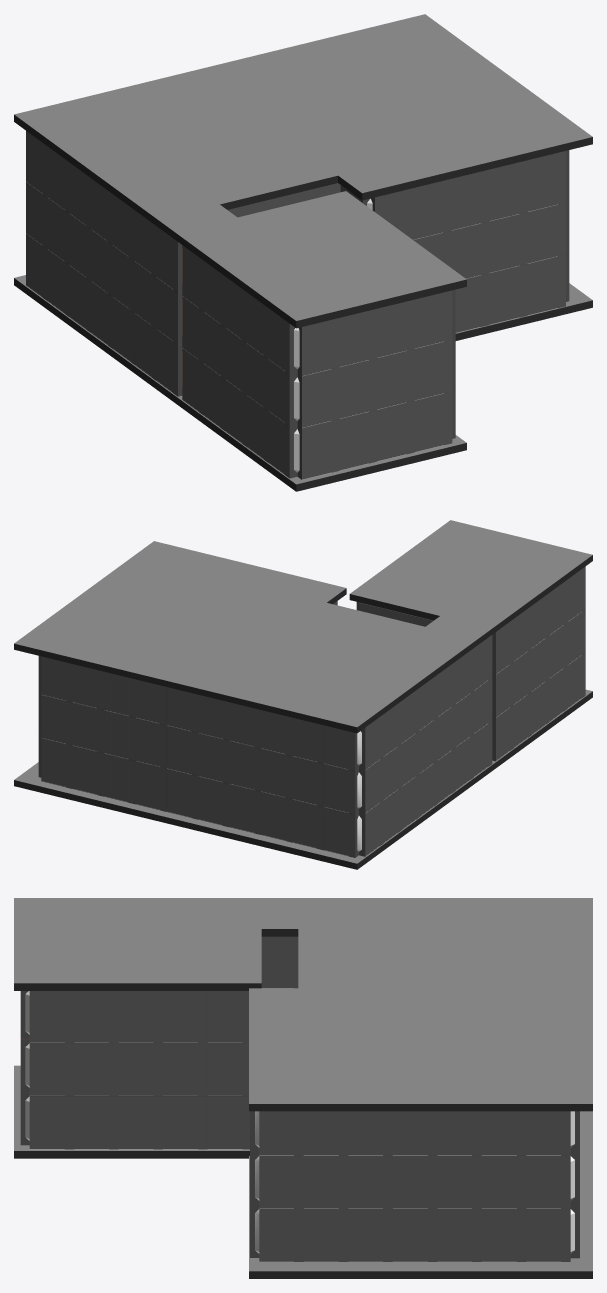
The model's file is teaching_level_4.fbx.
The picture shows the model from 3 angles, top to bottom: view 1: azimuth 30°, elevation 25°; view 2: azimuth 150°, elevation 25°; view 3: azimuth 270°, elevation 25°; orthographic projection. The views are drawn at different scales.
Visible parts, largest first — view 1: floor.001, wall, floor; view 2: wall, floor.001, floor; view 3: floor.001, wall, floor.
Part boxes in pixels (box(x1,y1,x2,y2)): floor.001: box(14, 14, 592, 328); wall: box(26, 131, 569, 479); floor: box(14, 275, 592, 491); wall: box(38, 566, 585, 857); floor.001: box(14, 520, 592, 733); floor: box(14, 689, 592, 869); floor.001: box(14, 898, 592, 1111); wall: box(20, 936, 579, 1261); floor: box(14, 1065, 592, 1278).
Size of the model in its own units: 2152 by 854 by 2559.
